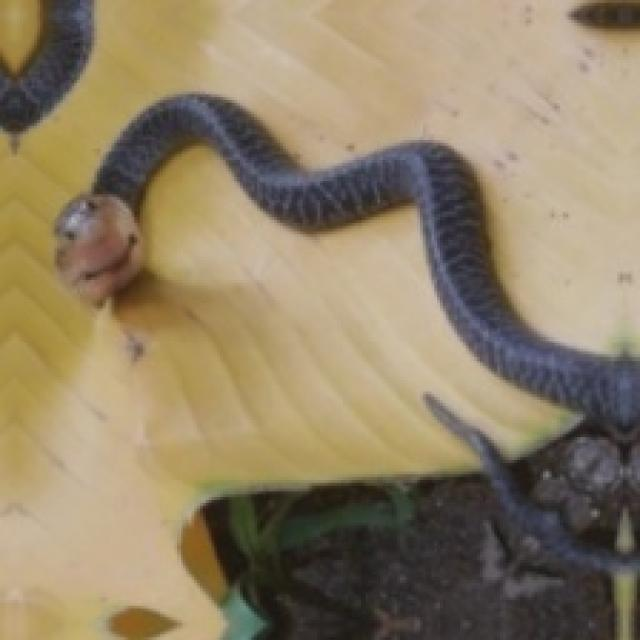philippine cobra: (57, 94, 637, 443), (57, 94, 637, 440), (429, 397, 637, 571)
